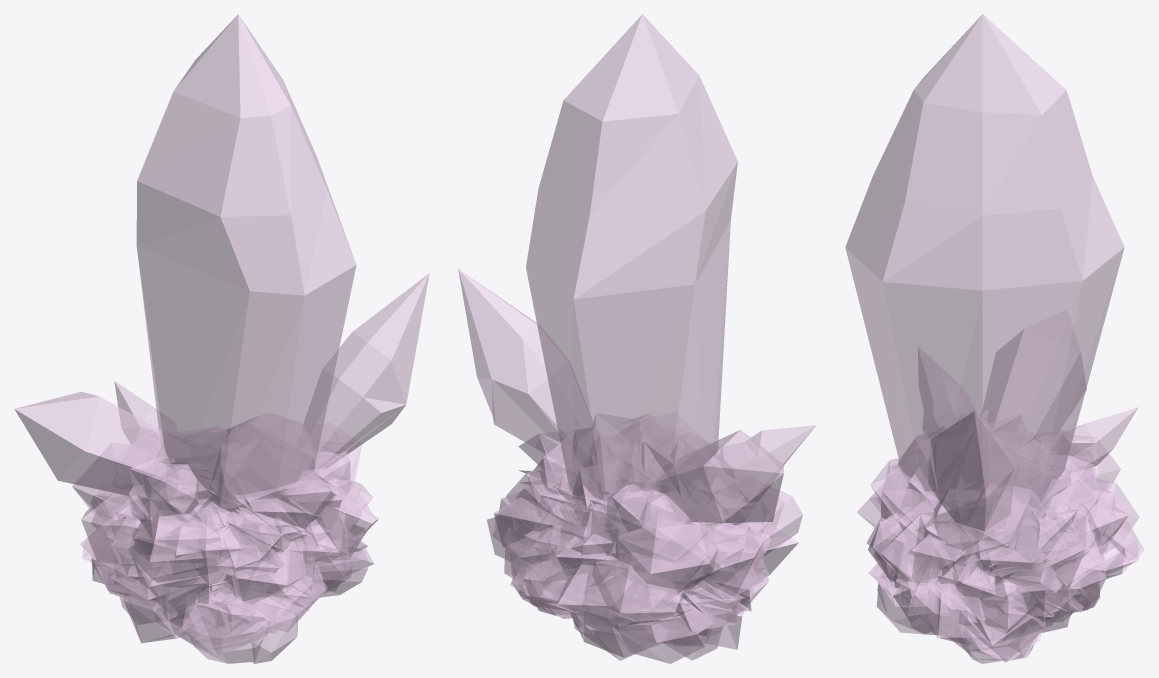
File: crystal.glb
3 renders of one model, left to right at view 1: azimuth 30°, elevation 25°; view 2: azimuth 150°, elevation 25°; view 3: azimuth 270°, elevation 25°, orthographic.
Visible parts, largest first — view 1: Circle, Cube; view 2: Circle, Cube; view 3: Circle, Cube.
Boxes of the visible parts, <box> form: Circle: <box>14,14,429,517</box>; Cube: <box>72,413,378,663</box>; Circle: <box>458,14,816,531</box>; Cube: <box>487,413,802,663</box>; Circle: <box>845,14,1138,531</box>; Cube: <box>857,409,1144,663</box>.
Bounding box in the file's own units: 2.88 × 4.64 × 2.
